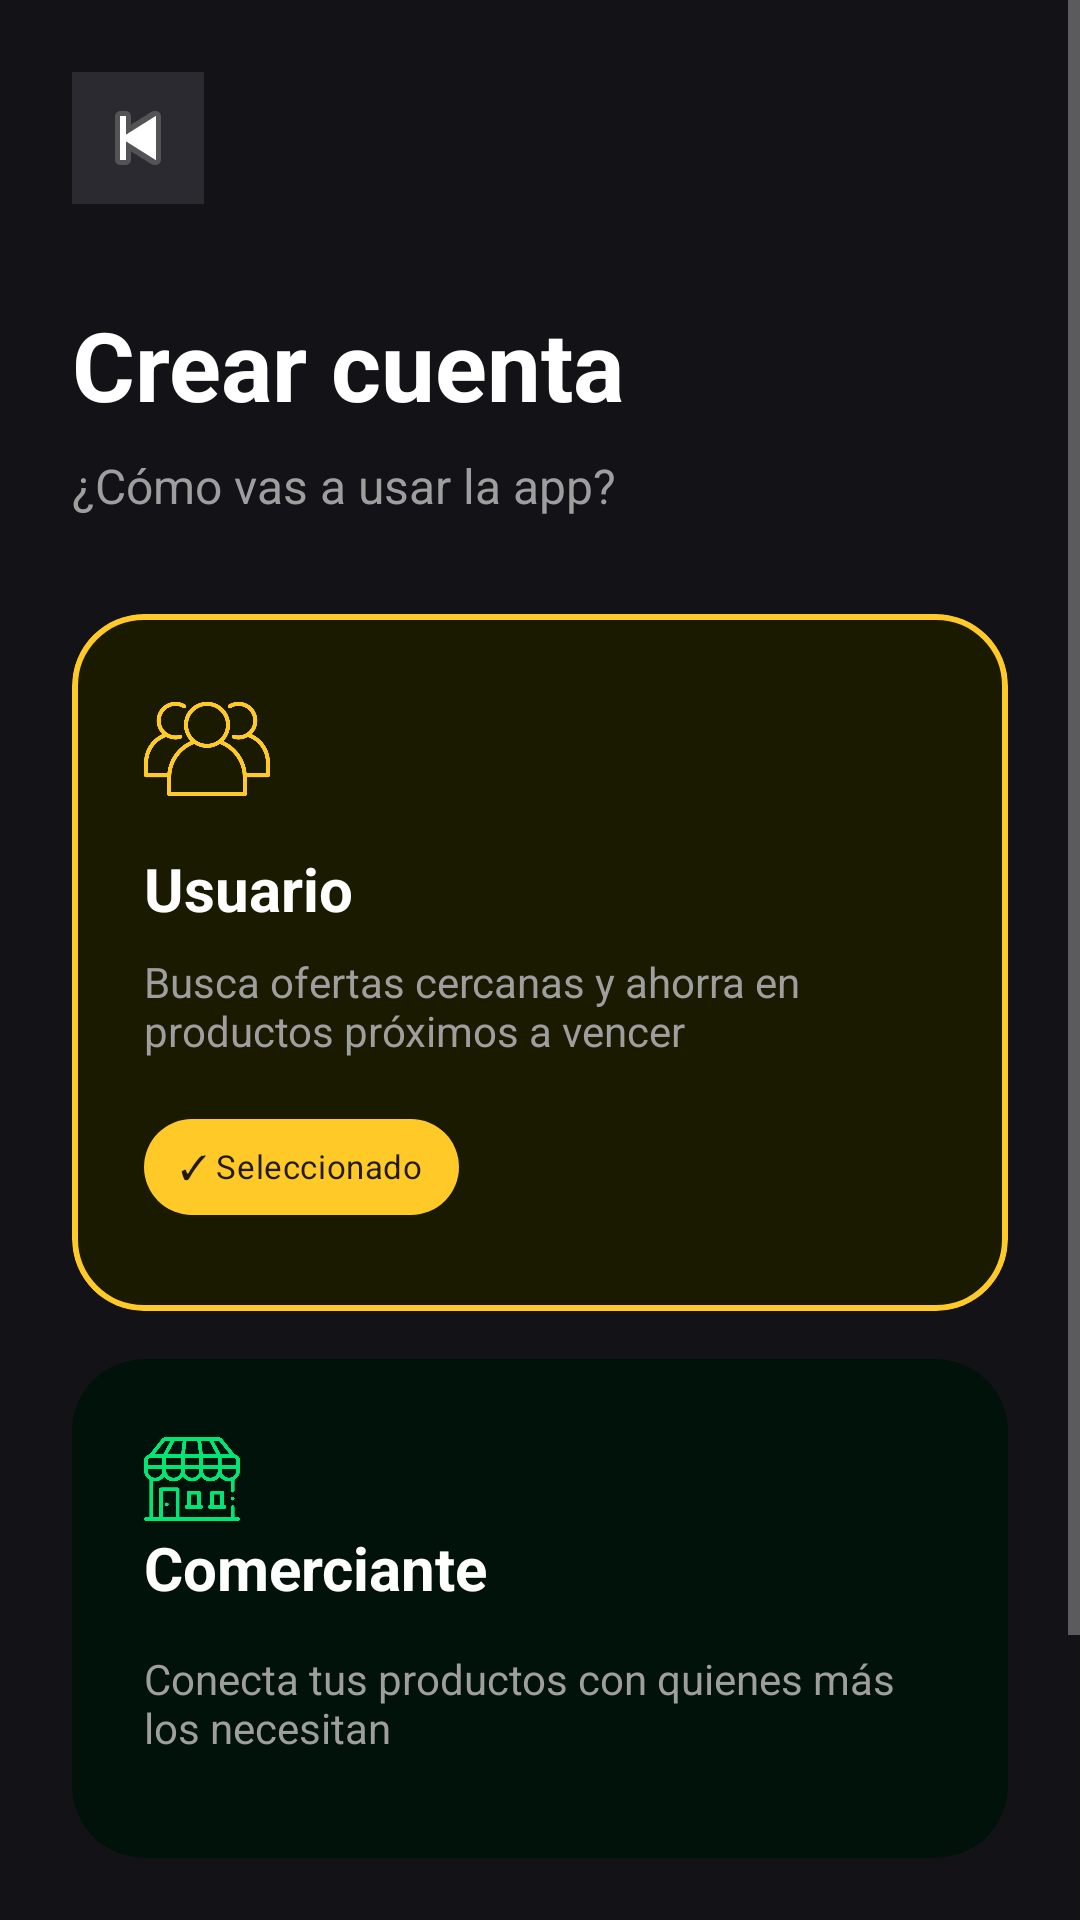

Named icons in this screenshot (1080 x 1920) and their centers, [x,y]:
seller: [192,1479]
user: [207,749]
Volver atrás: [138,138]
